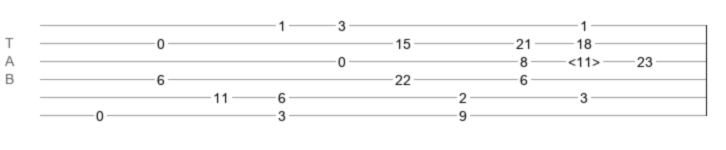0: (96, 108, 104, 118), (157, 36, 165, 46), (338, 54, 346, 64)
1: (278, 18, 286, 28), (580, 18, 588, 28)
11: (213, 90, 229, 100)
15: (395, 36, 411, 46)
18: (576, 36, 592, 46)
2: (459, 90, 467, 100)
21: (516, 36, 532, 46)
22: (395, 72, 411, 82)
23: (637, 54, 653, 64)
3: (278, 108, 286, 118), (338, 18, 346, 28), (580, 90, 588, 100)
6: (157, 72, 165, 82), (278, 90, 286, 100), (520, 72, 528, 82)
8: (520, 54, 528, 64)
9: (459, 108, 467, 118)
harmonic: (568, 54, 600, 64)
